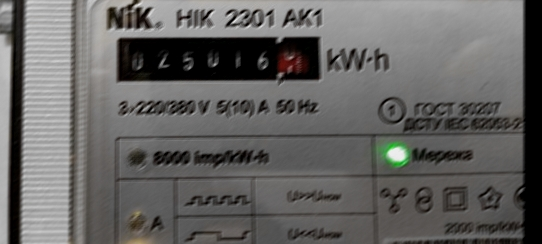0: (206, 45, 220, 68), (130, 49, 143, 71), (282, 40, 294, 60)
1: (231, 44, 242, 69), (284, 63, 292, 74)
2: (156, 46, 169, 69)
5: (181, 49, 192, 70)
6: (255, 47, 268, 72)
screen: (107, 27, 329, 88)
